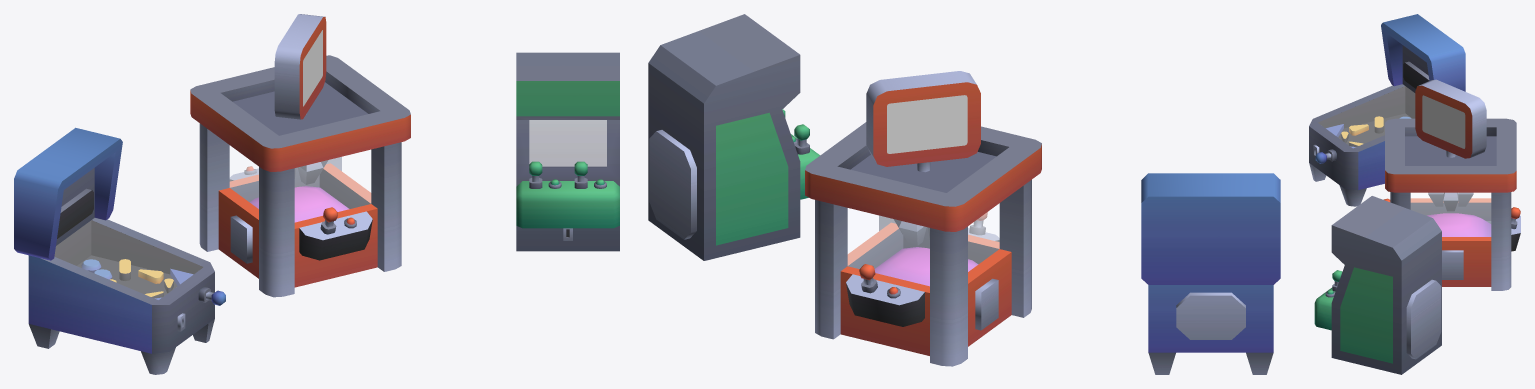
Rendered from EventToolPreview-transformed.glb.
3 renders of one model, left to right at view 1: azimuth 30°, elevation 25°; view 2: azimuth 150°, elevation 25°; view 3: azimuth 270°, elevation 25°, orthographic. The views are drawn at different scales.
Visible parts, largest first — view 1: claw-machine, (_ignore), rotate-y; view 2: claw-machine, rotate-y, (_ignore); view 3: claw-machine, (_ignore), rotate-y.
Part boxes in pixels (x1=…): claw-machine: x1=14, y1=52, x2=619, y2=374; (_ignore): x1=55, y1=145, x2=371, y2=299; rotate-y: x1=274, y1=14, x2=326, y2=119; claw-machine: x1=648, y1=14, x2=1280, y2=374; rotate-y: x1=866, y1=71, x2=980, y2=166; (_ignore): x1=847, y1=203, x2=999, y2=285; claw-machine: x1=1309, y1=14, x2=1520, y2=374; (_ignore): x1=1318, y1=86, x2=1491, y2=236; rotate-y: x1=1415, y1=79, x2=1486, y2=158.
Bounding box in the file's own units: 15.97 × 5.7 × 6.29.
2 materials, 1 textured.
